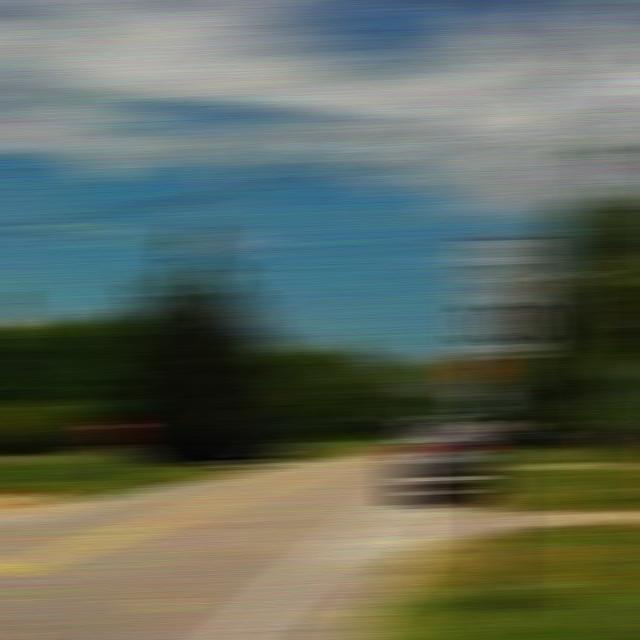speedLimit35: (463, 233, 544, 355)
